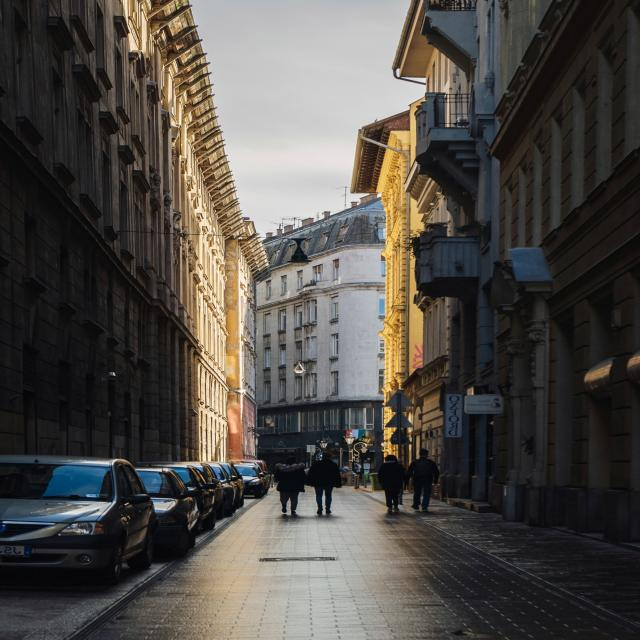adult: (307, 452, 341, 514), (406, 448, 438, 511), (276, 457, 306, 513), (378, 455, 406, 511)
